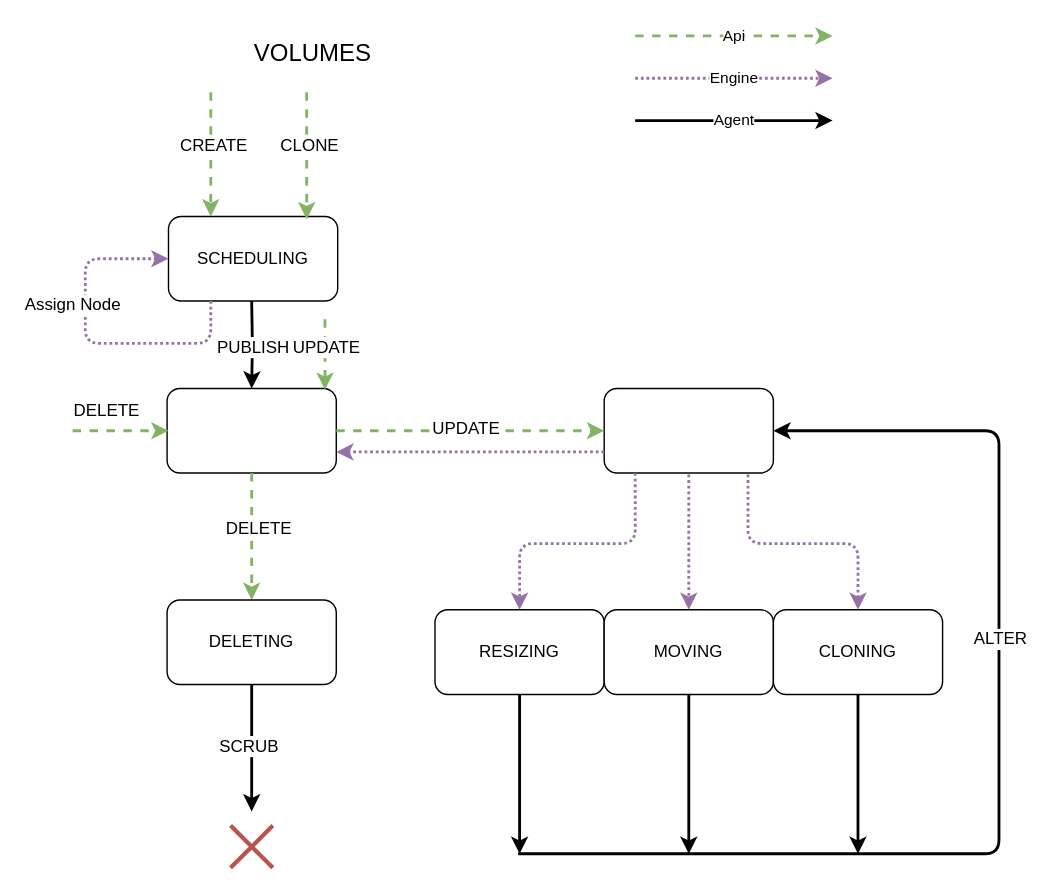
Image size: 1050x894. Some labels were removed from this diagram. Here are the shapes that lost their labels. From the top down, the centre of each, then its label:
At (x=251, y=430): "READY".
At (x=688, y=430): "PENDING".
